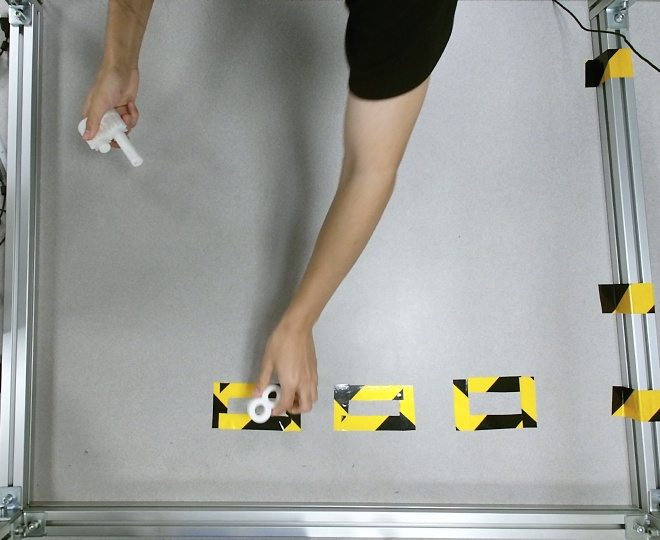stage_3: (76, 108, 141, 168)
